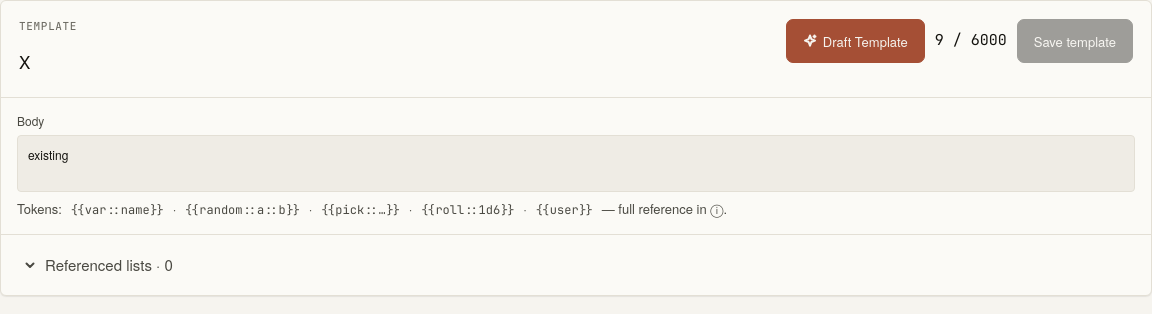
TemplateEditor — AI Draft Template integration › non-empty body continuation: no separator when existing ends in whitespace
Click the button "Draft Template": (855, 41) 786,19 -> 925,63
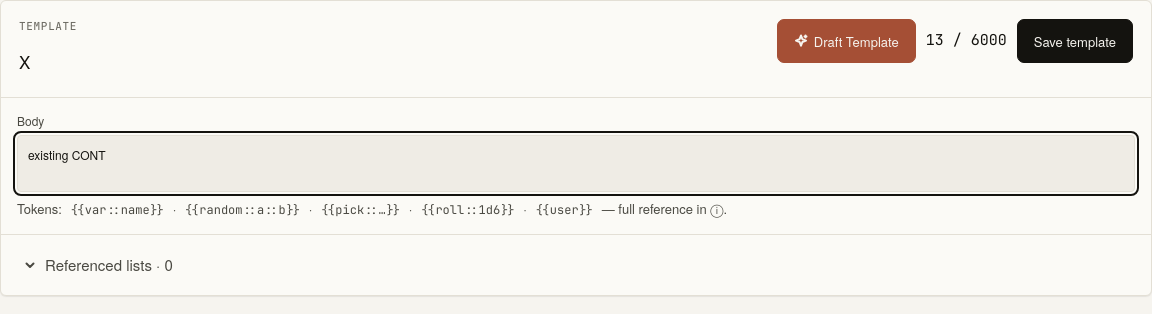
Expected: the text box labelled "Body" holds "existing CONT", 17,135 -> 1135,192
